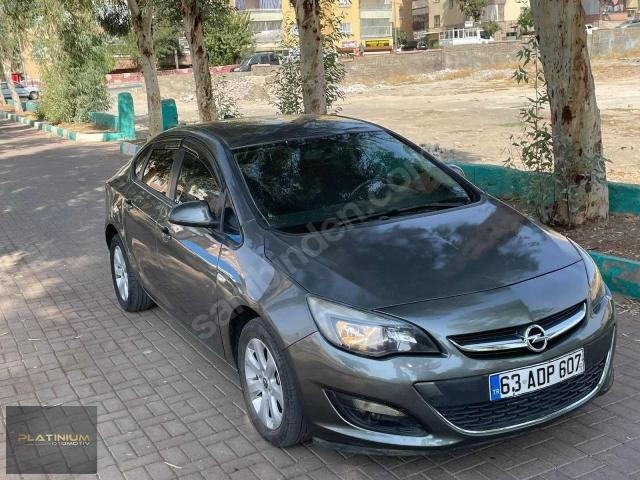plaka: (489, 348, 585, 401)
